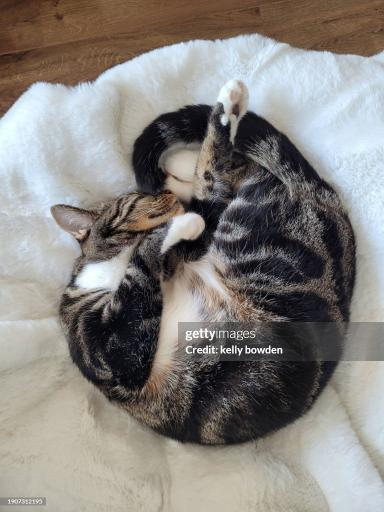cat_sleeping: (52, 80, 355, 444)
